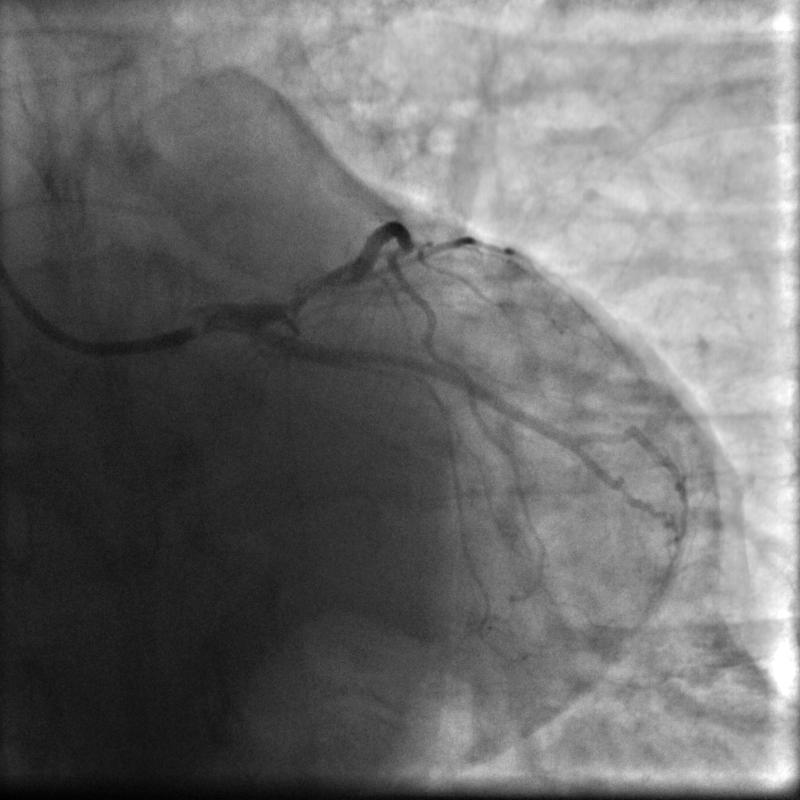Stenosis: (278, 270, 356, 311)
